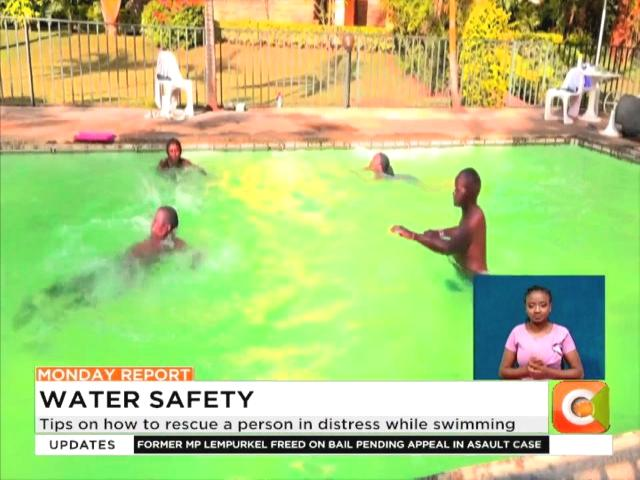drowning: (57, 218, 199, 312)
swimming: (398, 146, 502, 298), (341, 130, 412, 190), (150, 138, 209, 190)
